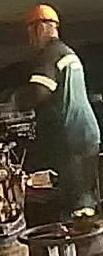helmet: (23, 3, 60, 26)
vest: (22, 43, 103, 163)
